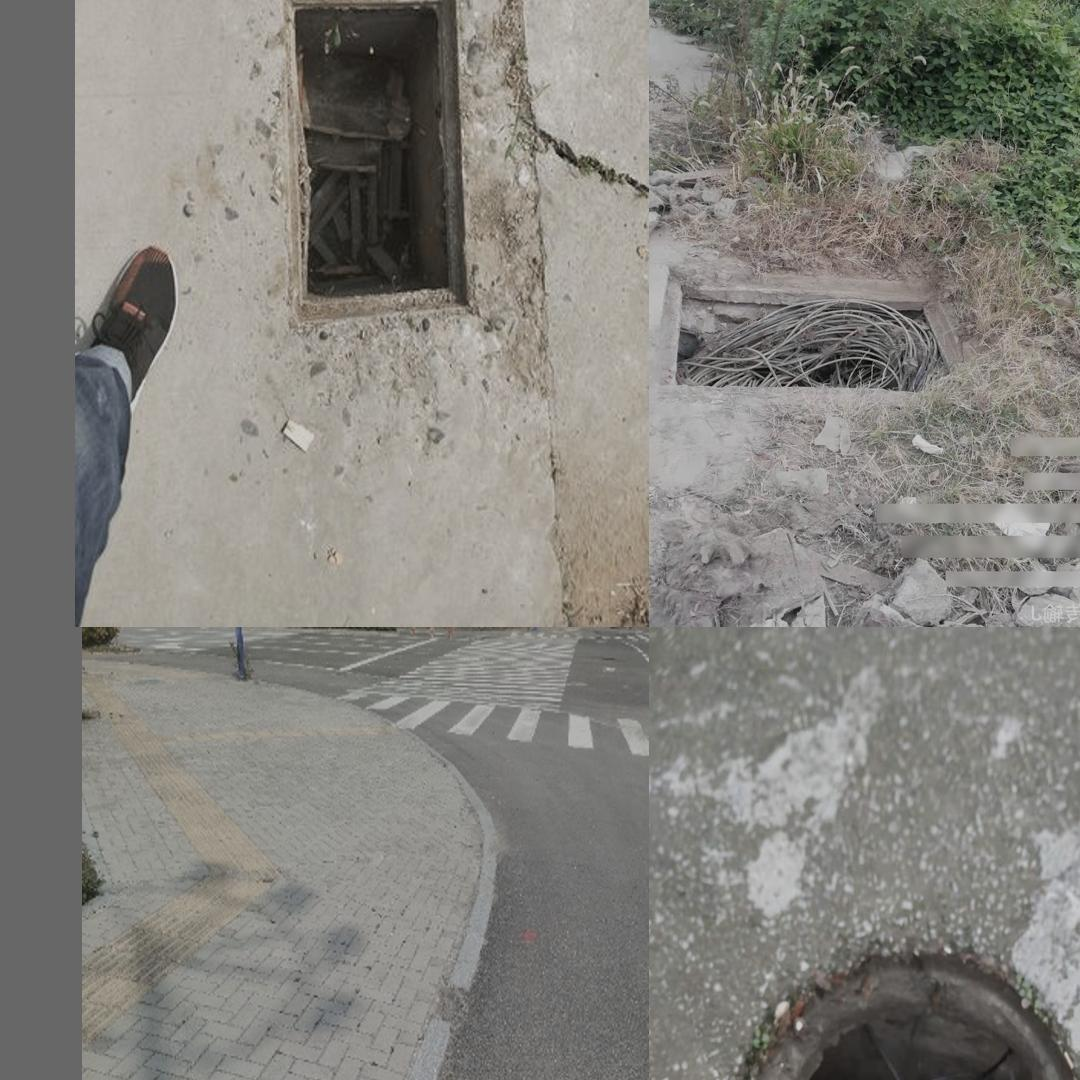lose: (237, 0, 523, 368), (722, 944, 1080, 1080), (655, 269, 971, 391)
